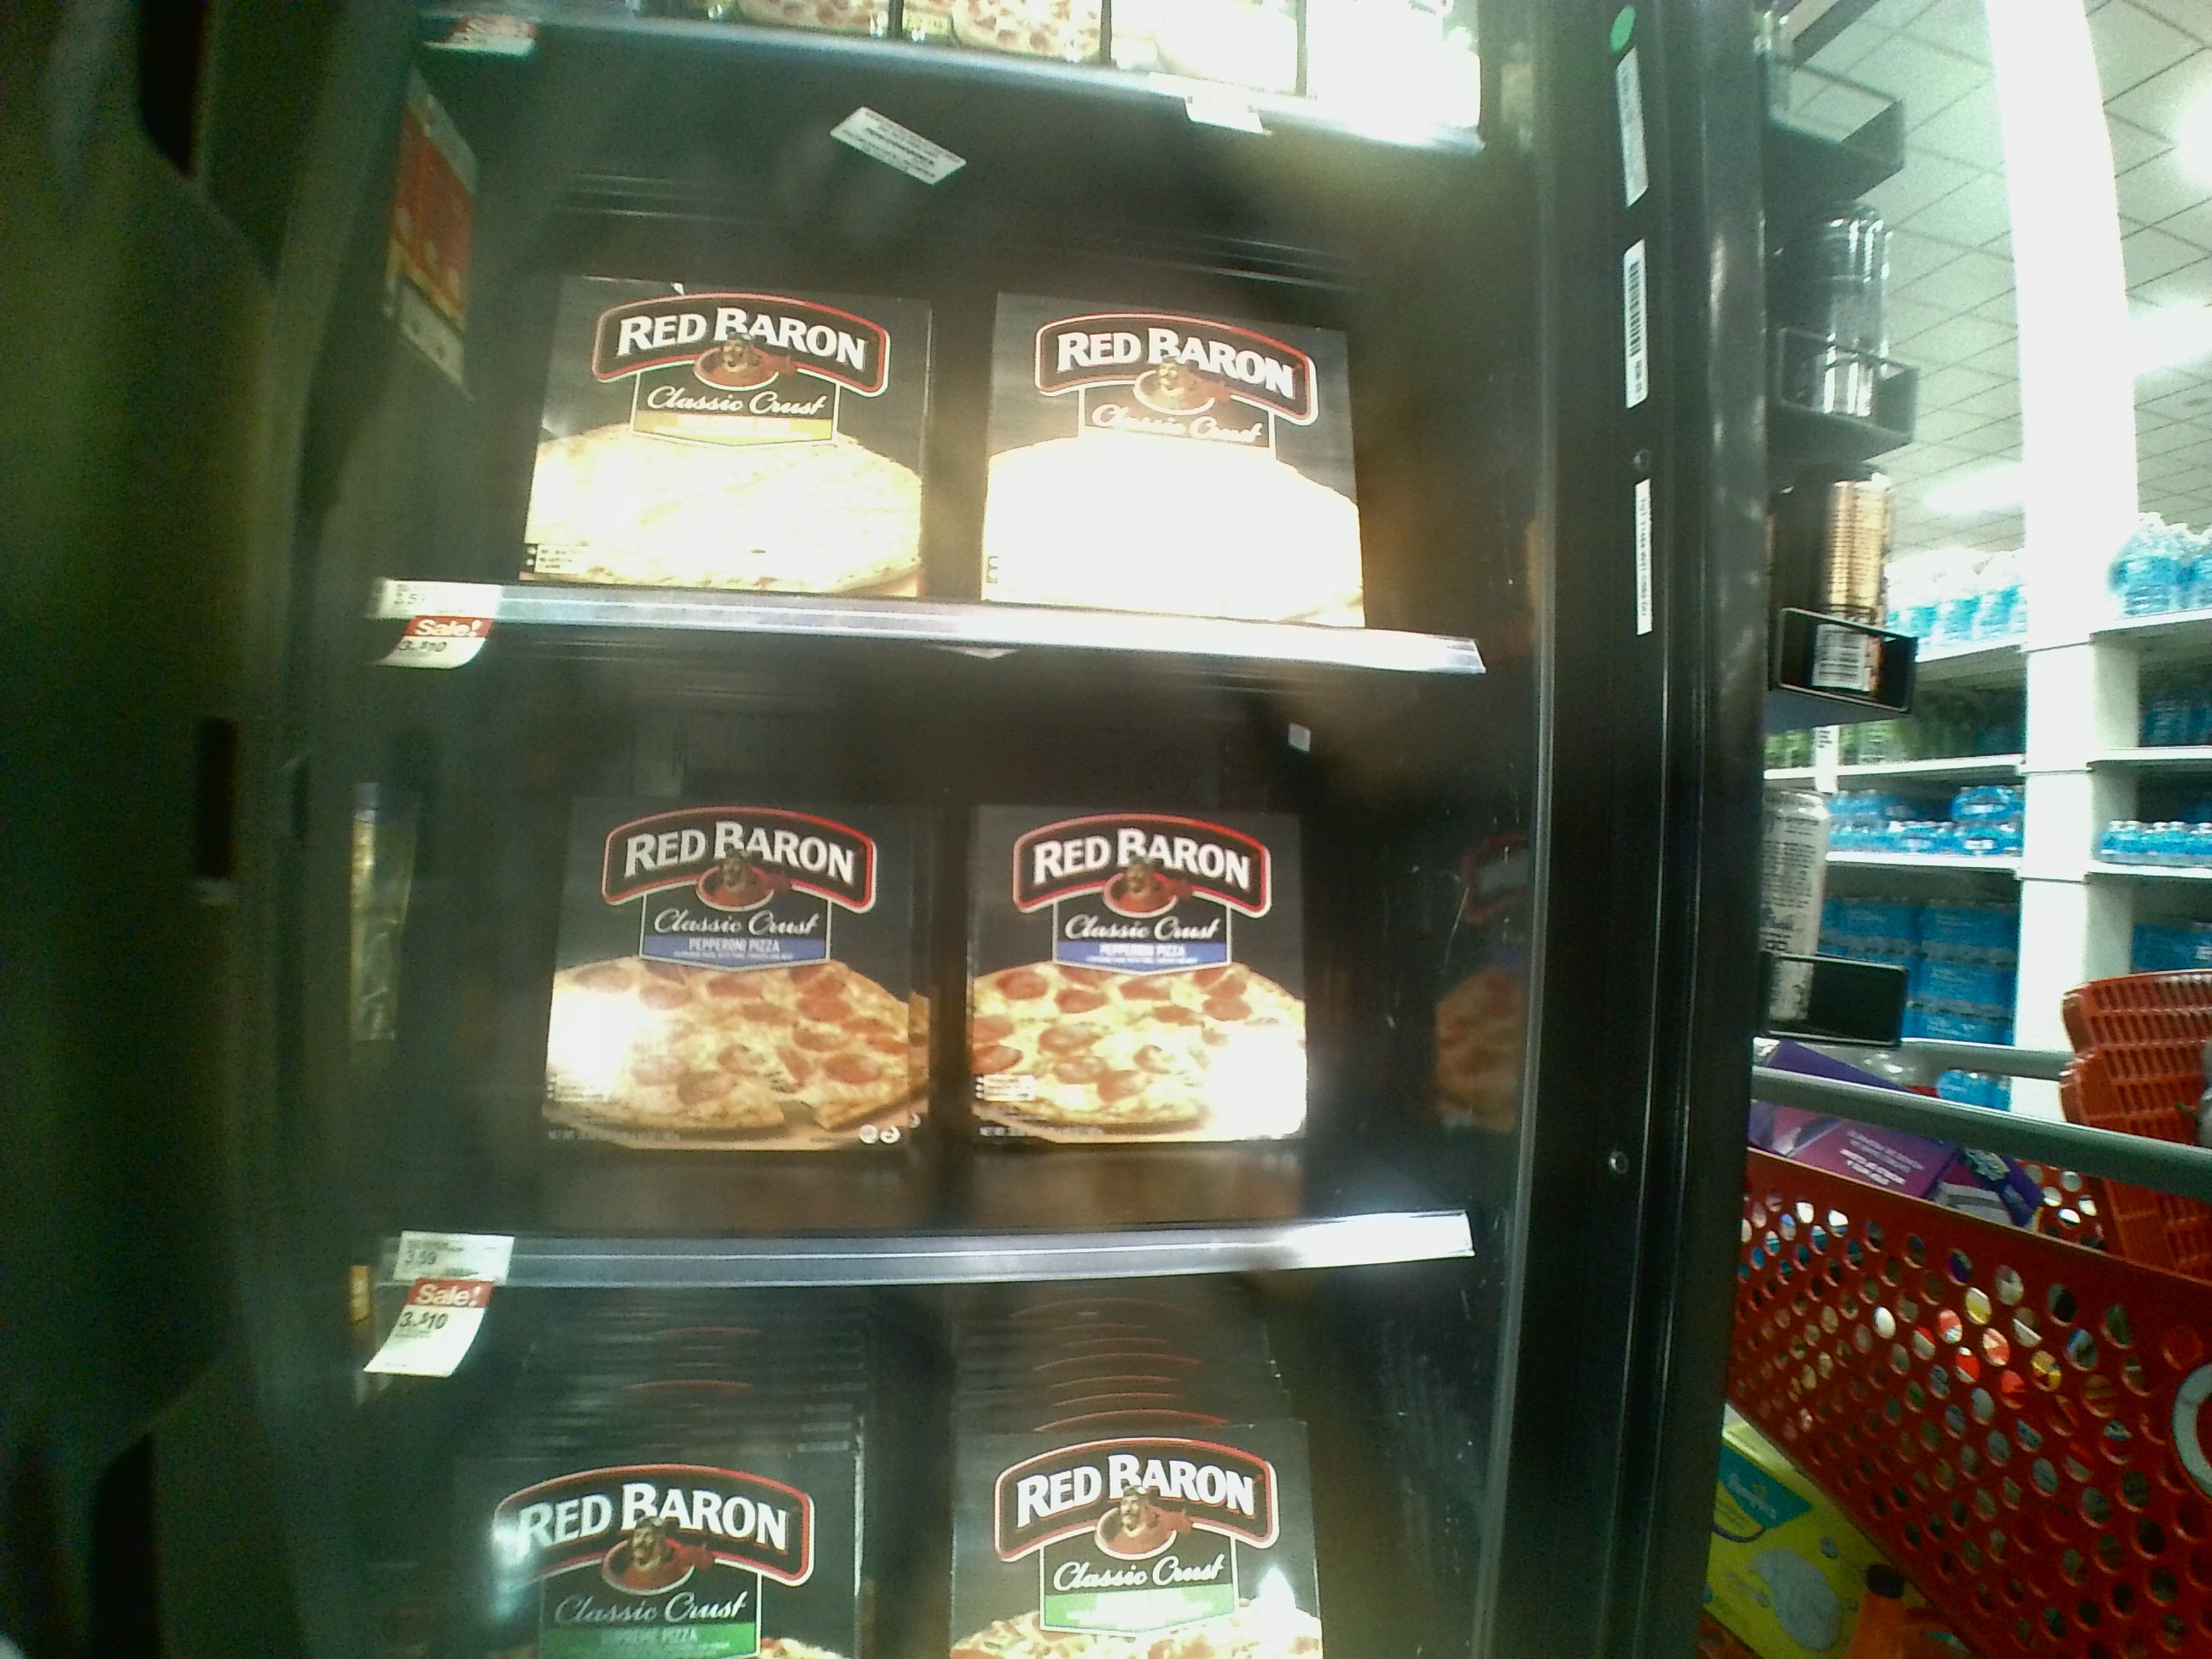shelf: (423, 666, 1465, 1286), (420, 106, 1486, 685)
